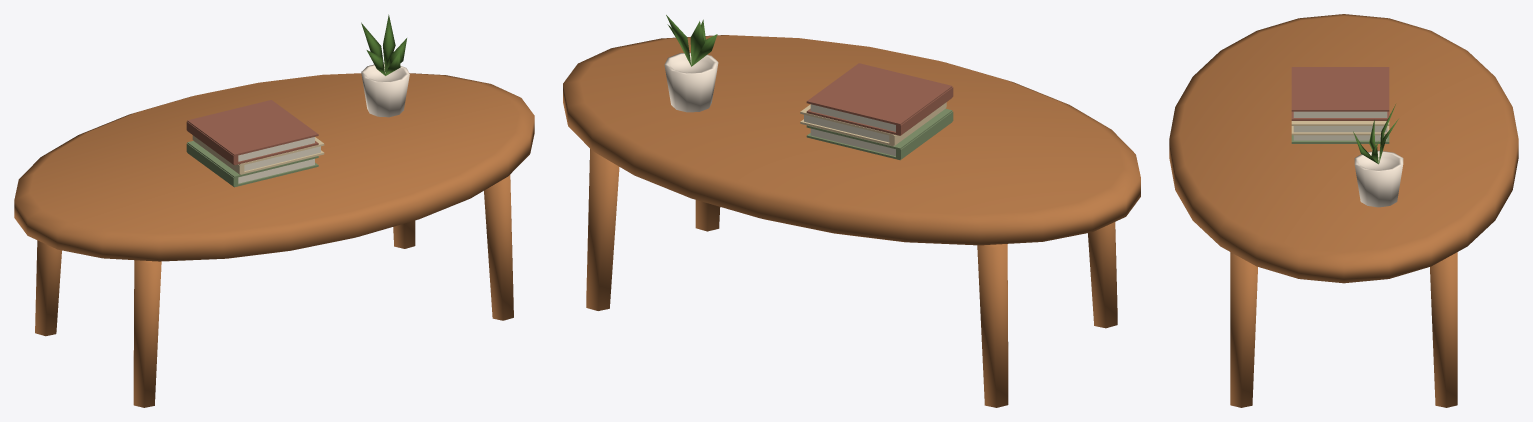
The model's file is coffeeTable.glb.
3 renders of one model, left to right at view 1: azimuth 30°, elevation 25°; view 2: azimuth 150°, elevation 25°; view 3: azimuth 270°, elevation 25°, orthographic. The views are drawn at different scales.
Visible parts, largest first — view 1: coffeeTable_oval_top, coffeeTable_books_2_cover_1, coffeeTable_leg_-0.6_-0.285, coffeeTable_leg_0.6_-0.285, coffeeTable_leg_-0.6_0.285, coffeeTable_decor_pot, coffeeTable_books_0_cover_1, coffeeTable_leg_0.6_0.285, coffeeTable_books_0_pages, coffeeTable_books_2_pages, coffeeTable_books_1_pages, coffeeTable_books_0_spine (+1 smaller); view 2: coffeeTable_oval_top, coffeeTable_books_2_cover_1, coffeeTable_leg_-0.6_0.285, coffeeTable_leg_0.6_0.285, coffeeTable_leg_-0.6_-0.285, coffeeTable_decor_pot, coffeeTable_books_0_cover_1, coffeeTable_leg_0.6_-0.285, coffeeTable_books_2_pages, coffeeTable_books_1_pages, coffeeTable_books_0_pages, coffeeTable_books_2_spine (+1 smaller); view 3: coffeeTable_oval_top, coffeeTable_books_2_cover_1, coffeeTable_leg_0.6_0.285, coffeeTable_leg_0.6_-0.285, coffeeTable_decor_pot, coffeeTable_books_2_pages, coffeeTable_books_1_pages, coffeeTable_books_0_pages, coffeeTable_books_1_cover_1, coffeeTable_books_1_cover_-1, coffeeTable_books_0_cover_-1, coffeeTable_books_2_cover_-1.
Boxes of the visible parts, <box> form: coffeeTable_oval_top: <box>14,73,534,261</box>; coffeeTable_books_2_cover_1: <box>187,100,318,156</box>; coffeeTable_leg_-0.6_-0.285: <box>133,260,161,407</box>; coffeeTable_leg_0.6_-0.285: <box>484,175,513,320</box>; coffeeTable_leg_-0.6_0.285: <box>35,240,61,336</box>; coffeeTable_decor_pot: <box>361,63,409,117</box>; coffeeTable_books_0_cover_1: <box>187,141,318,177</box>; coffeeTable_leg_0.6_0.285: <box>393,220,415,248</box>; coffeeTable_books_0_pages: <box>238,158,314,183</box>; coffeeTable_books_2_pages: <box>238,137,314,161</box>; coffeeTable_books_1_pages: <box>244,146,320,171</box>; coffeeTable_books_0_spine: <box>186,143,238,186</box>; coffeeTable_oval_top: <box>563,35,1140,245</box>; coffeeTable_books_2_cover_1: <box>806,63,952,125</box>; coffeeTable_leg_-0.6_0.285: <box>977,244,1008,407</box>; coffeeTable_leg_0.6_0.285: <box>586,149,619,310</box>; coffeeTable_leg_-0.6_-0.285: <box>1088,222,1117,328</box>; coffeeTable_decor_pot: <box>664,52,718,112</box>; coffeeTable_books_0_cover_1: <box>806,108,952,149</box>; coffeeTable_leg_0.6_-0.285: <box>695,200,720,231</box>; coffeeTable_books_2_pages: <box>810,104,895,131</box>; coffeeTable_books_1_pages: <box>804,114,889,142</box>; coffeeTable_books_0_pages: <box>810,128,895,155</box>; coffeeTable_books_2_spine: <box>896,87,953,134</box>; coffeeTable_oval_top: <box>1169,14,1518,283</box>; coffeeTable_books_2_cover_1: <box>1291,67,1389,111</box>; coffeeTable_leg_0.6_0.285: <box>1430,252,1457,407</box>; coffeeTable_leg_0.6_-0.285: <box>1230,252,1257,407</box>; coffeeTable_decor_pot: <box>1354,150,1403,207</box>; coffeeTable_books_2_pages: <box>1293,111,1387,117</box>; coffeeTable_books_1_pages: <box>1293,126,1387,132</box>; coffeeTable_books_0_pages: <box>1293,135,1387,140</box>; coffeeTable_books_1_cover_1: <box>1291,121,1389,125</box>; coffeeTable_books_1_cover_-1: <box>1291,126,1389,135</box>; coffeeTable_books_0_cover_-1: <box>1291,135,1389,143</box>; coffeeTable_books_2_cover_-1: <box>1291,111,1389,120</box>.
Size of the model in its own units: 1.7 by 0.8414 by 1.
